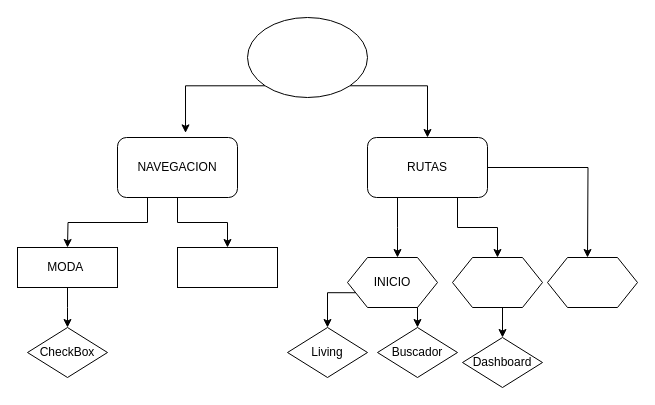
Image size: 655x405. Some labels were removed from this diagram. Here are the shapes that lost their labels. From the top down, the centre of each, then its label:
At point 307,57: "APP".
At point 227,267: "DETALLES(LINK)".
At point 497,282: "CONTENIDO".
At point 592,282: "DETALLES".
